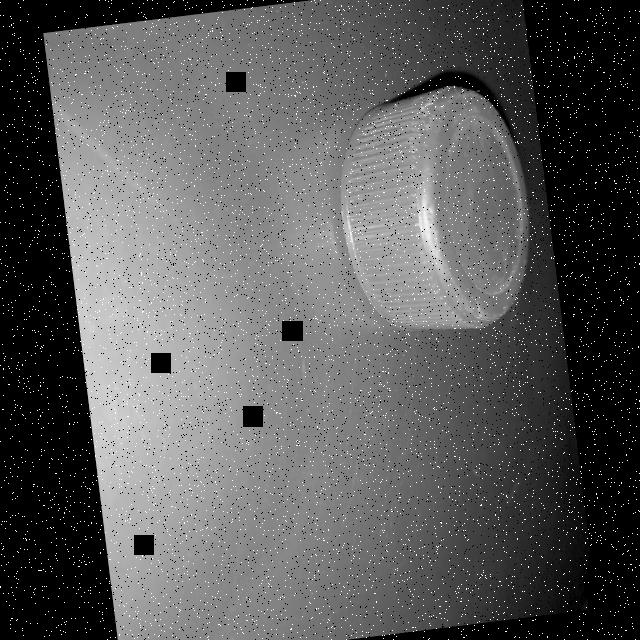plastic_bottle_cap: (326, 75, 542, 341)
